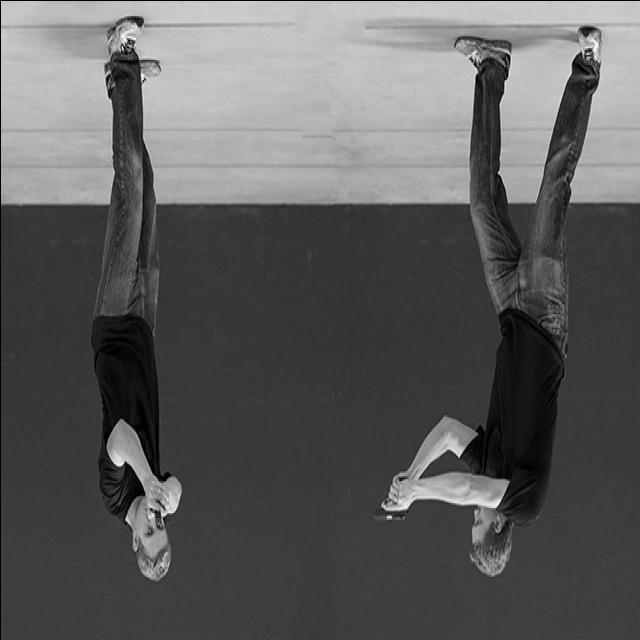weapons: (365, 447, 421, 552), (144, 464, 174, 539)
